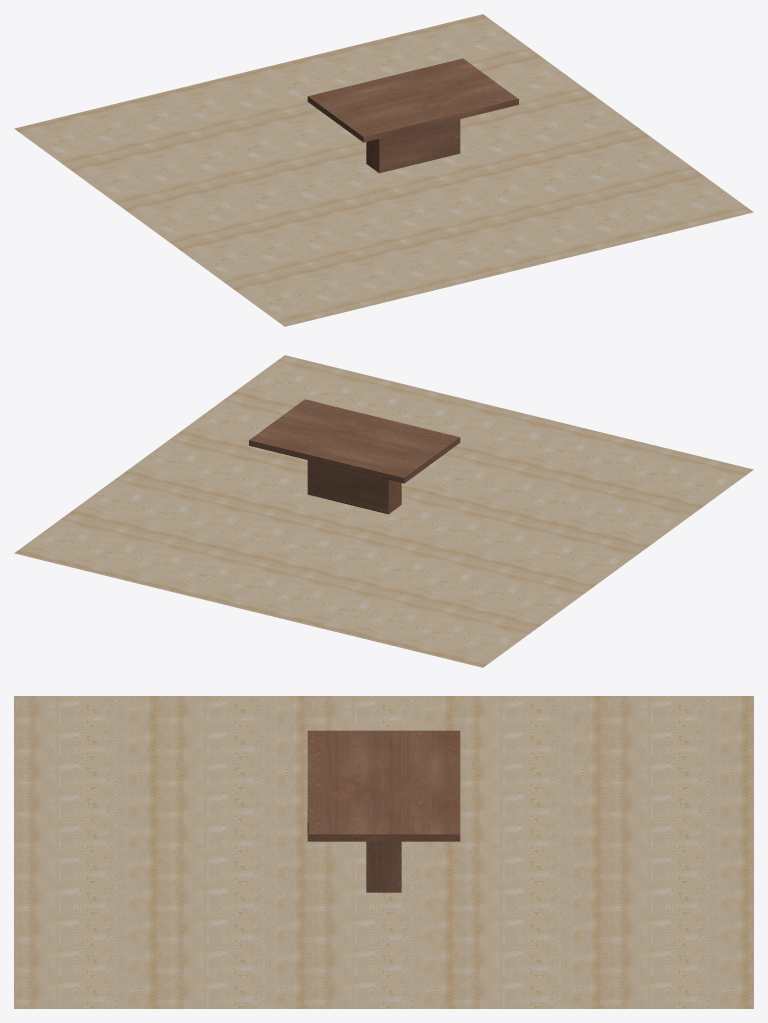
File: tablem.glb
3 views of the same model, one above another, from view 1: azimuth 30°, elevation 25°; view 2: azimuth 150°, elevation 25°; view 3: azimuth 270°, elevation 25° (orthographic). The views are drawn at different scales.
Bounding box in the file's own units: 9.71 × 1.3 × 9.71.
Materials: 2 (2 with a texture image).
